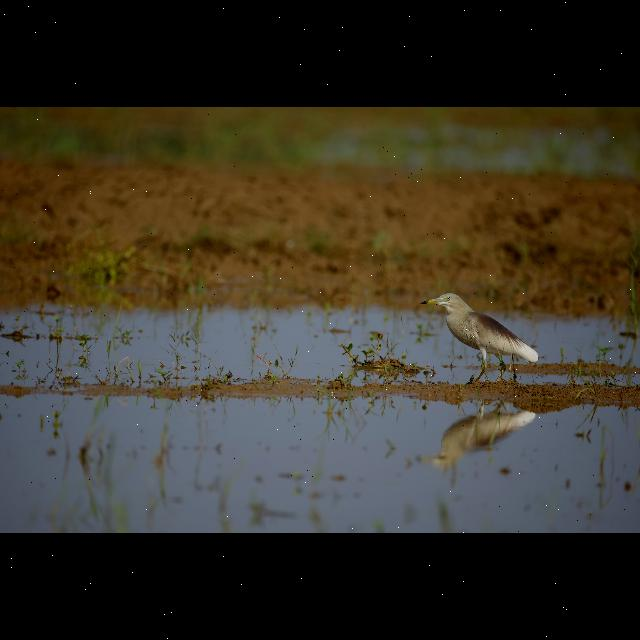heron: (416, 283, 548, 397)
